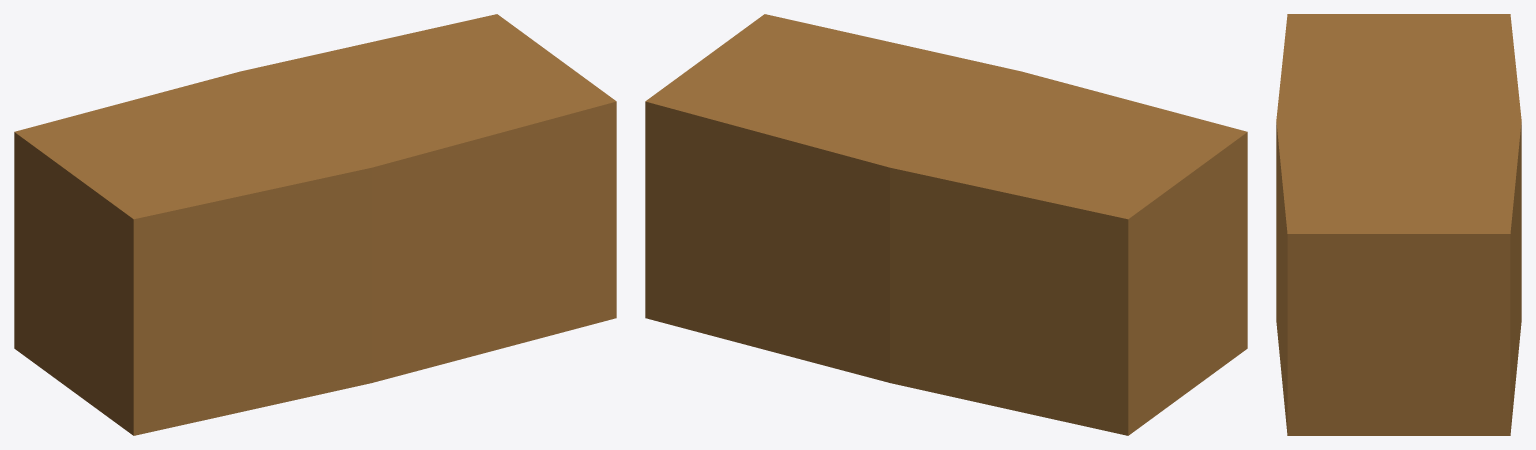
Rendered from farm_hay-cube.fbx.
The picture shows the model from 3 angles, left to right: view 1: azimuth 30°, elevation 25°; view 2: azimuth 150°, elevation 25°; view 3: azimuth 270°, elevation 25°; orthographic projection. The views are drawn at different scales.
Parts seen in each view (by area): view 1: farm_hay_cube; view 2: farm_hay_cube; view 3: farm_hay_cube.
Part boxes in pixels (x1,y1,x2,y2): farm_hay_cube: (14, 14, 616, 435); farm_hay_cube: (645, 14, 1247, 435); farm_hay_cube: (1276, 14, 1521, 435).
Size of the model in its own units: 200 by 85.71 by 94.28.
